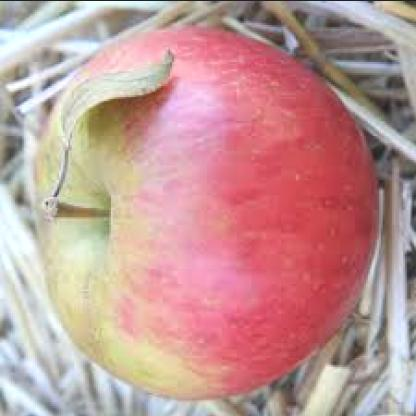apple: (52, 61, 374, 396)
